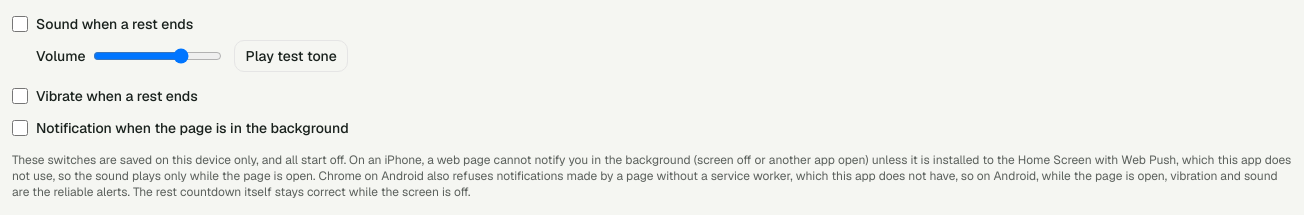
Scenario: RestAlertsForm › asks once, from the Notification switch, and keeps it on when allowed
Click the checkbox labelled "Notification when the page is in the background" at point(20, 128), box top-left (12, 120), bottom-right (28, 136)
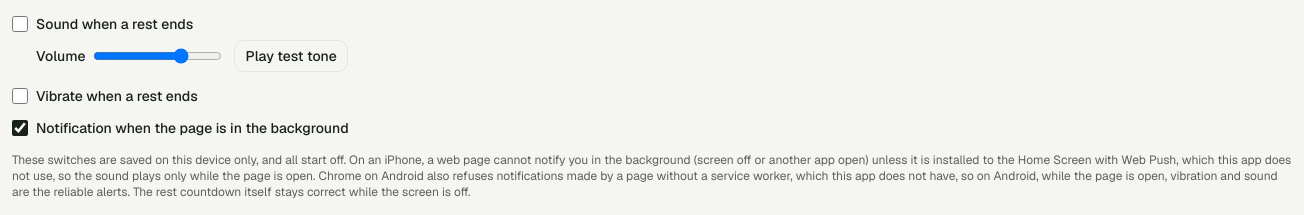
Now the checkbox labelled "Notification when the page is in the background" is checked, box top-left (12, 120), bottom-right (28, 136)
